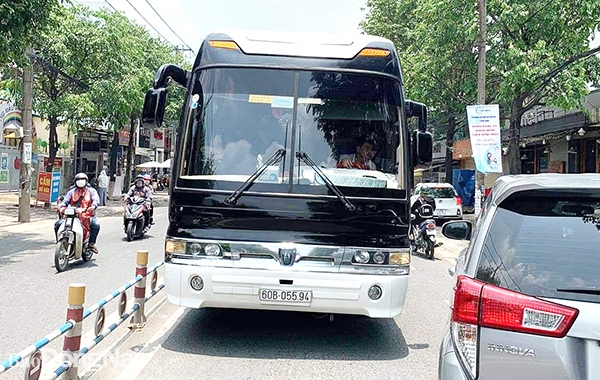number_plate: (260, 285, 312, 306)
